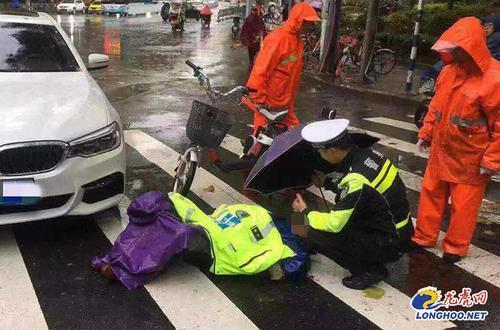Fall-Detected: (93, 182, 311, 289)
